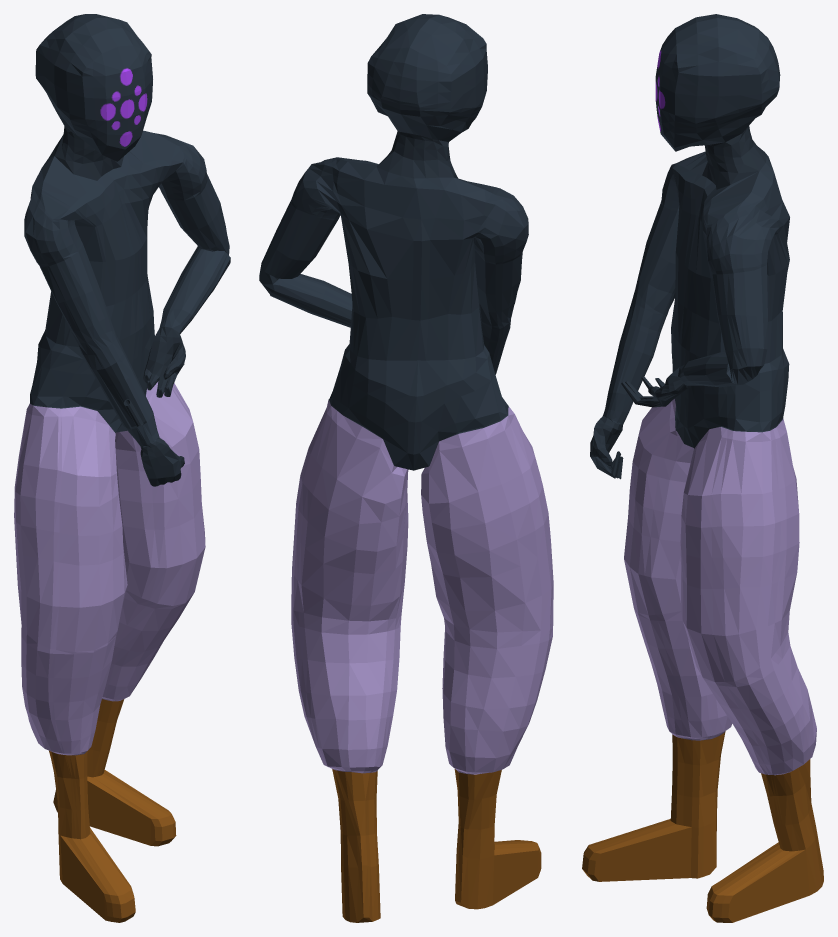
File: Oracle_WF_000026.obj
3 views of the same model, side by side, from view 1: azimuth 30°, elevation 25°; view 2: azimuth 150°, elevation 25°; view 3: azimuth 270°, elevation 25° (orthographic). The views are drawn at different scales.
Parts seen in each view (by area): view 1: Cube; view 2: Cube; view 3: Cube.
Part boxes in pixels (x1=…): Cube: x1=14, y1=14, x2=230, y2=922; Cube: x1=259, y1=14, x2=553, y2=922; Cube: x1=582, y1=14, x2=823, y2=922.
Size of the model in its own units: 1.15 by 3.94 by 0.986.
